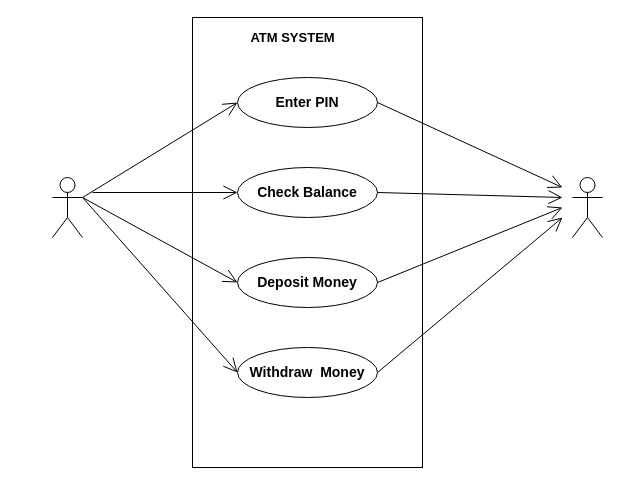
Image size: 626x485. Some labels were removed from this diagram. The centre of each missing label's shape, as x and y in pixels:
Bank: point (587, 207)
Bank Card Holder: point (67, 207)
